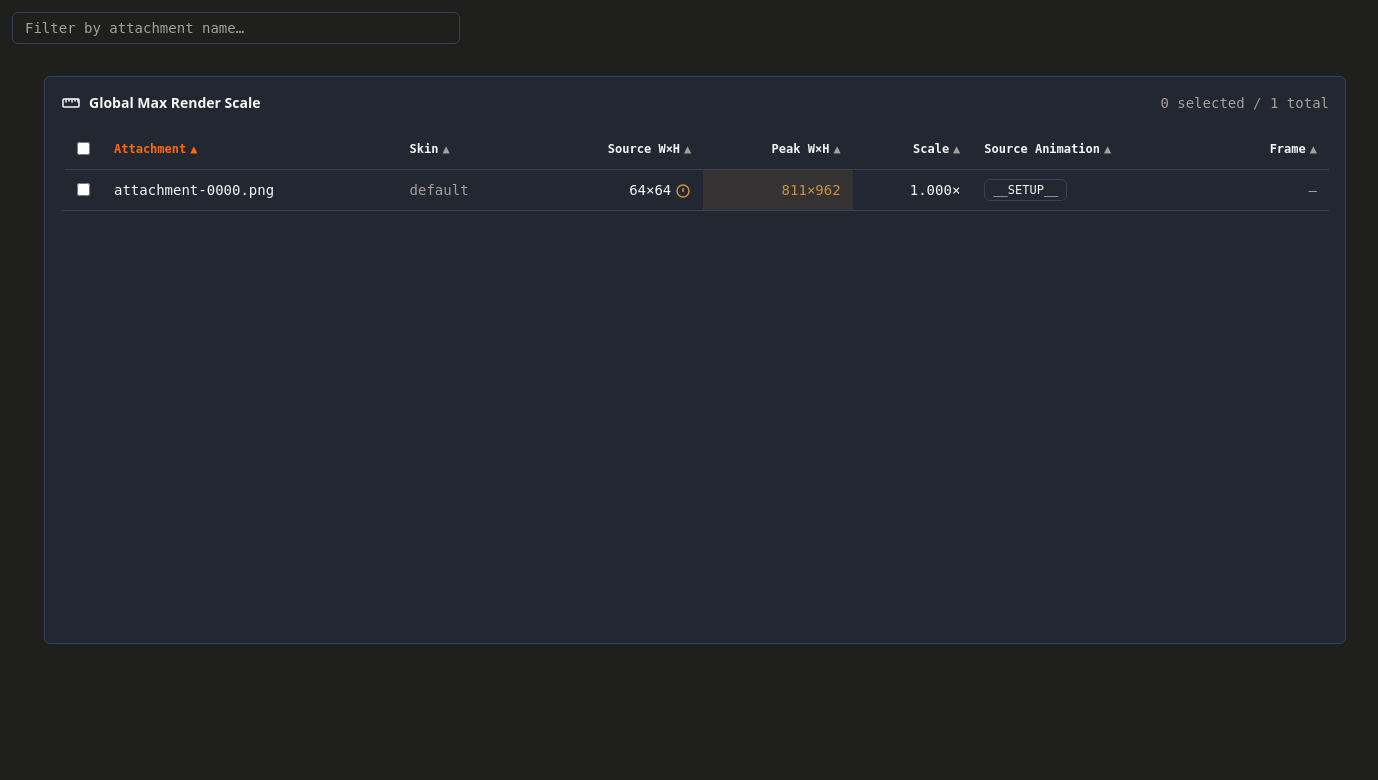
Test case: GlobalMaxRenderPanel — DIMS-02 dims-mismatch badge (Phase 22) › renders dims-mismatch badge when row.dimsMismatch === true
# Hover to surface the tooltip and verify content.
Hover over the element with test id "dims-badge-host" at (683, 191), box [675, 183, 691, 199]
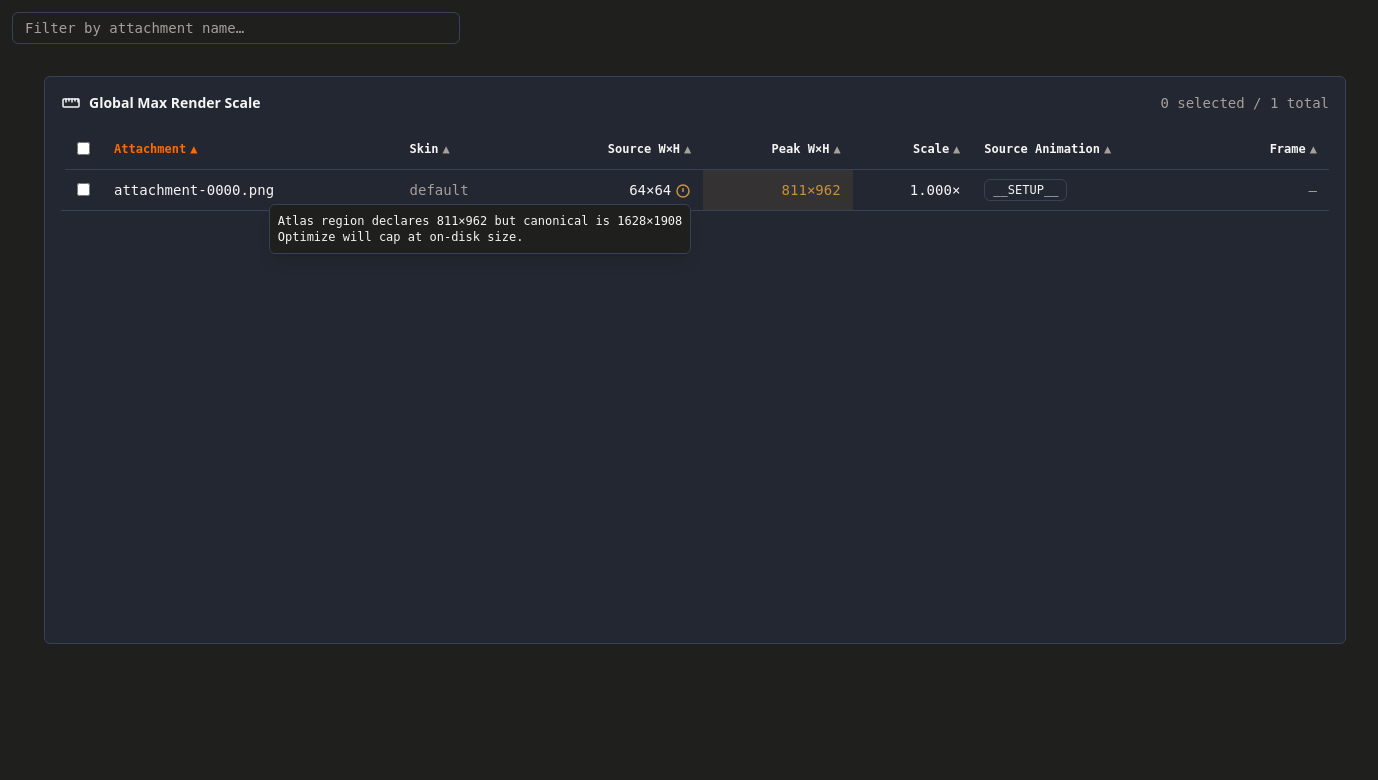
Check: the tooltip shows "Atlas region declares 811×962", box [278, 214, 682, 244]
Check: the tooltip shows "Optimize will cap at on-disk size.", box [278, 214, 682, 244]
